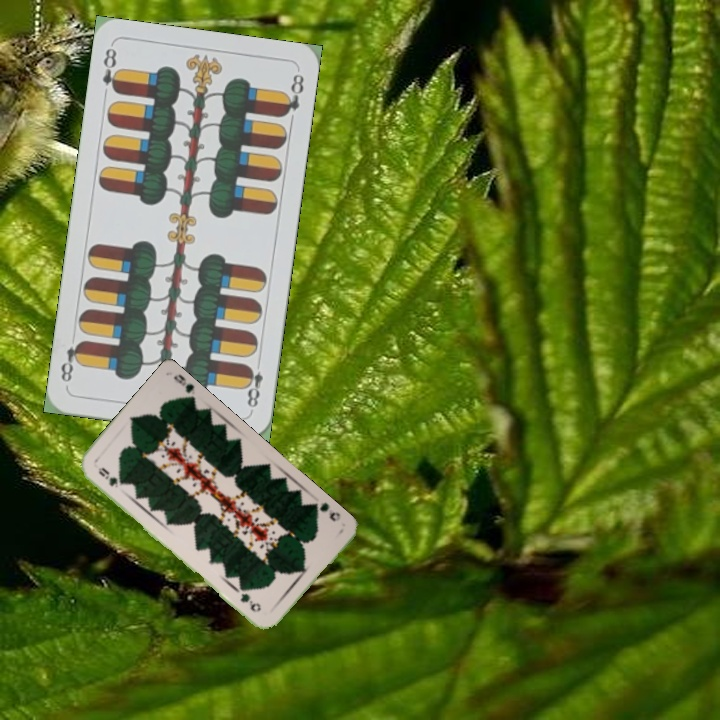E8: (241, 361, 266, 414), (98, 44, 123, 97)
G9: (308, 498, 343, 524), (94, 463, 124, 490)
